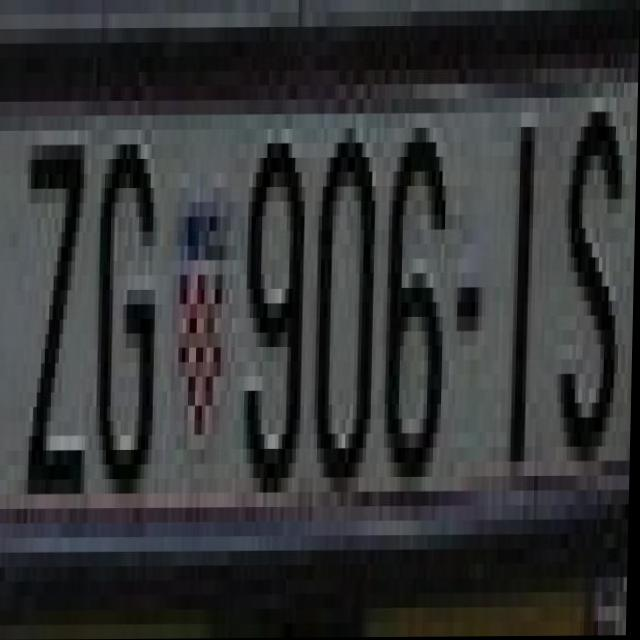0: (321, 99, 385, 493)
6: (382, 128, 451, 478)
9: (241, 129, 318, 493)
G: (97, 115, 170, 479)
S: (554, 98, 628, 462)
Z: (26, 116, 100, 494)
